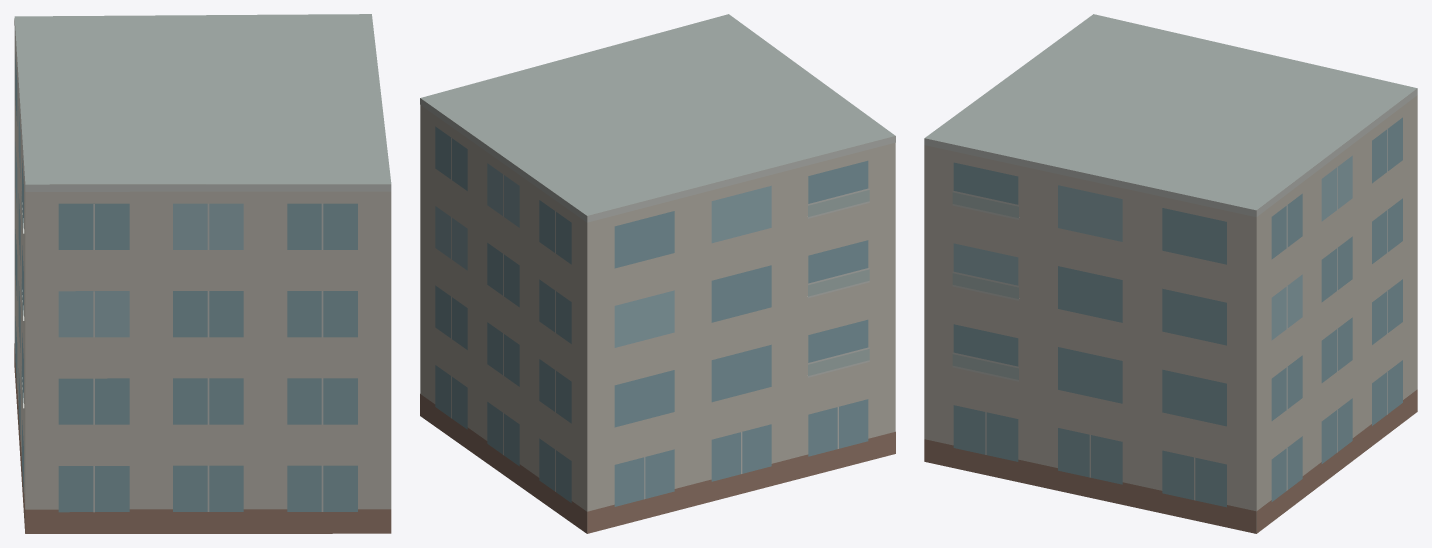
The model's file is survey-upis-32952636.glb.
3 renders of one model, left to right at view 1: azimuth 30°, elevation 25°; view 2: azimuth 150°, elevation 25°; view 3: azimuth 270°, elevation 25°, orthographic. The views are drawn at different scales.
Visible parts, largest first — view 1: survey-upis-32952636.tmp; view 2: survey-upis-32952636.tmp; view 3: survey-upis-32952636.tmp.
Boxes of the visible parts, <box> form: survey-upis-32952636.tmp: <box>14,14,391,533</box>; survey-upis-32952636.tmp: <box>420,14,895,533</box>; survey-upis-32952636.tmp: <box>924,14,1417,533</box>.
Bounding box in the file's own units: 14.98 × 11.5 × 15.89.
